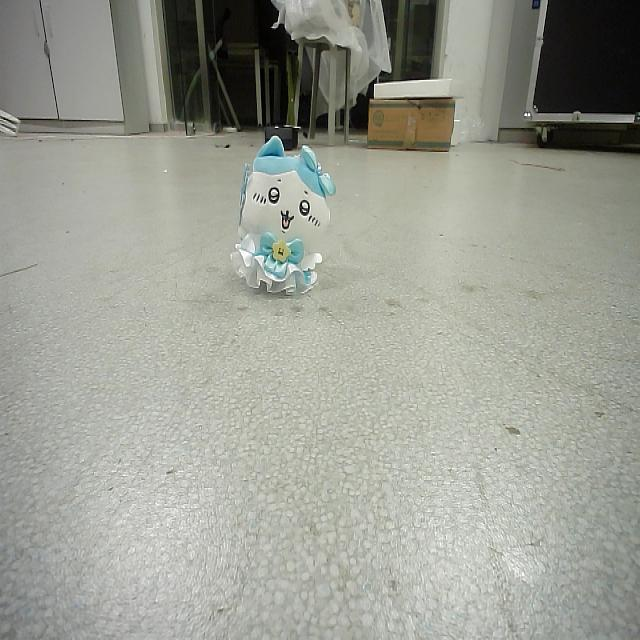xiaoba: (231, 132, 336, 306)
